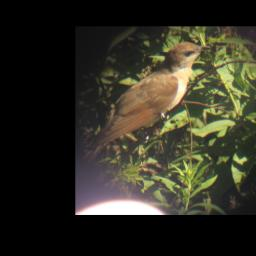Cuckoo: (79, 41, 212, 168)
